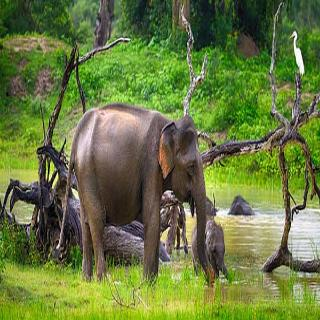Elephant: (54, 100, 216, 298), (191, 217, 234, 285)
